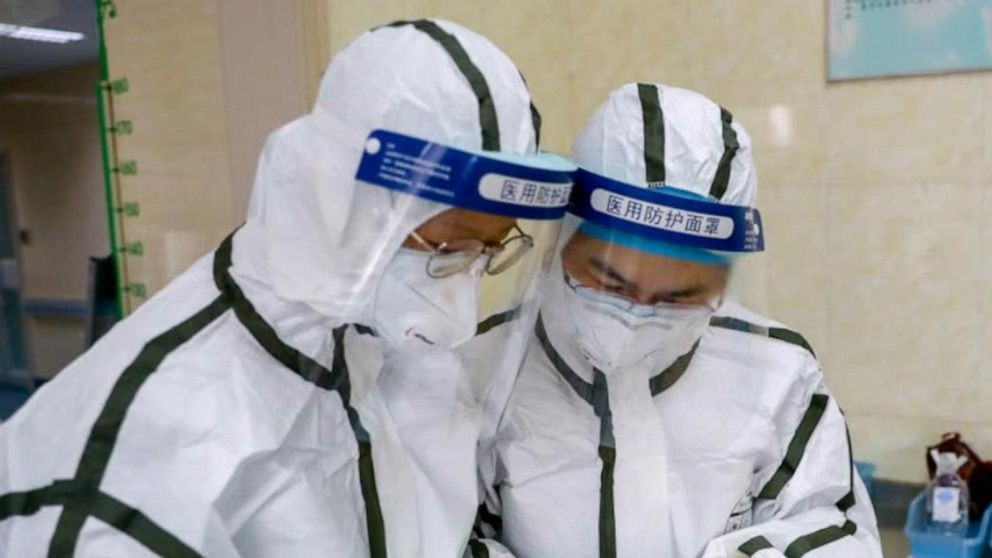Coverall: (2, 22, 564, 558), (445, 80, 875, 558)
Face_Shield: (338, 120, 578, 425), (546, 160, 770, 444)
with_mask: (565, 247, 720, 389), (375, 214, 503, 364)
